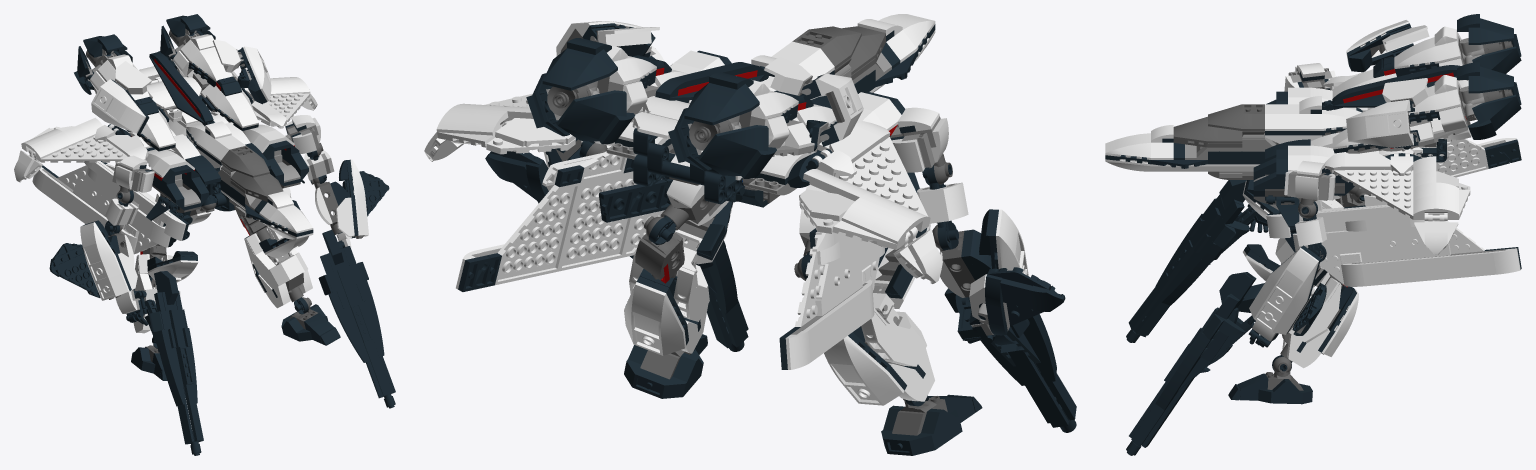
The model's file is vf-22-sturmvogel-gerwalk.dae.
The picture shows the model from 3 angles, left to right: view 1: azimuth 30°, elevation 25°; view 2: azimuth 150°, elevation 25°; view 3: azimuth 270°, elevation 25°; orthographic projection. The views are drawn at different scales.
Size of the model in its own units: 815 by 730 by 689.
